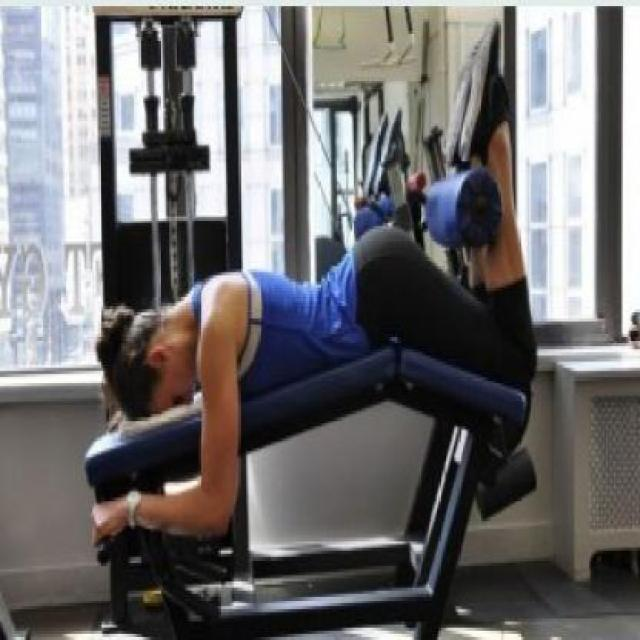reg curl machine: (80, 1, 540, 640)
